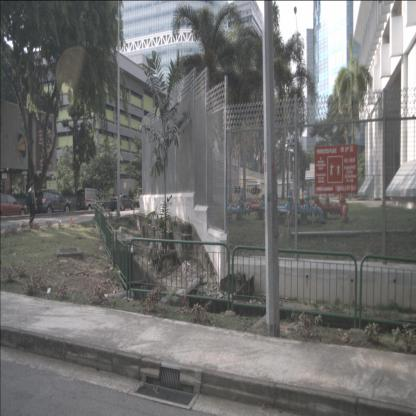human-pedestrian-adult: (26, 182, 37, 228)
vehicle-car: (34, 190, 71, 214), (0, 193, 28, 218), (75, 188, 106, 210), (109, 194, 134, 212)
vehicle-truck: (133, 187, 151, 208)
